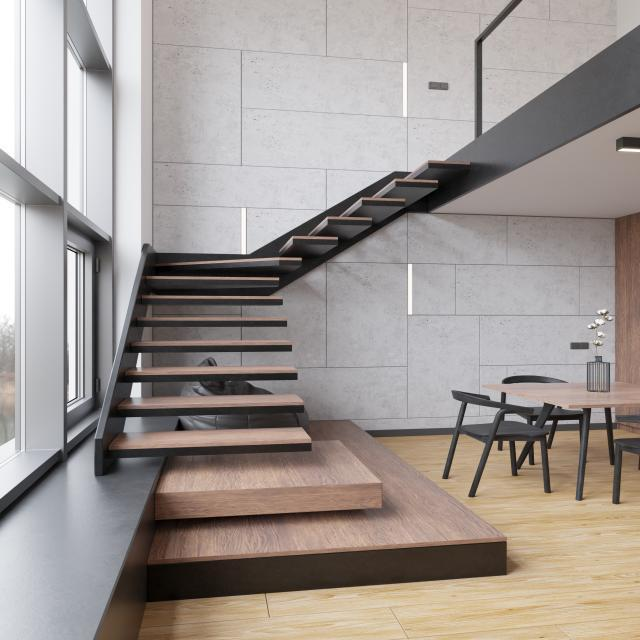stairs: (92, 158, 472, 476)
